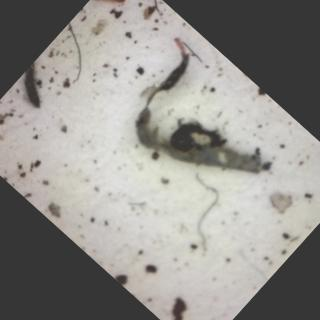Microplastic: (147, 165, 250, 266), (221, 243, 274, 295)
